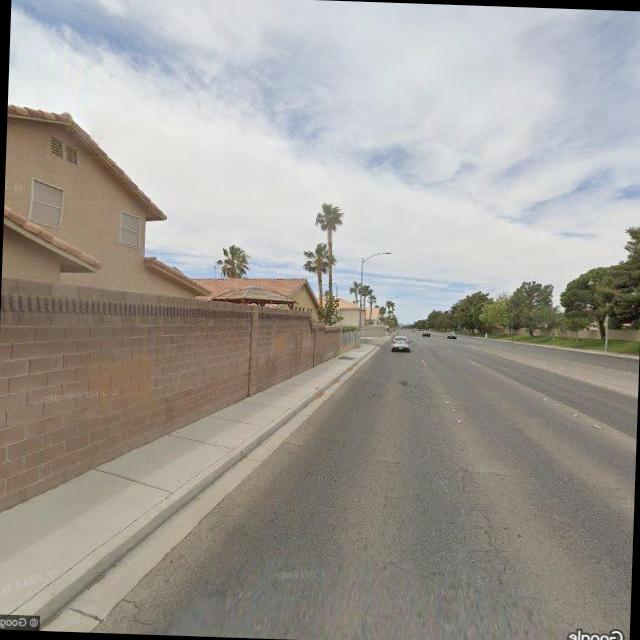pothole: (454, 464, 519, 593)
